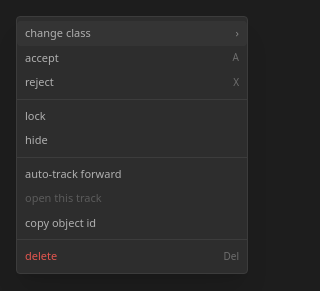
what it acts on › Escape from the class list goes back to the menu rather than closing it
Click the menu item "change class ›": (132, 33) [17,21,247,46]
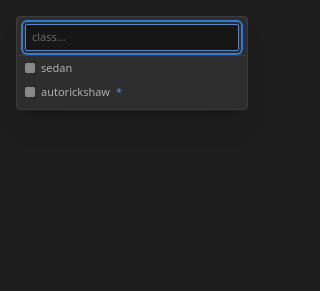
Press Escape
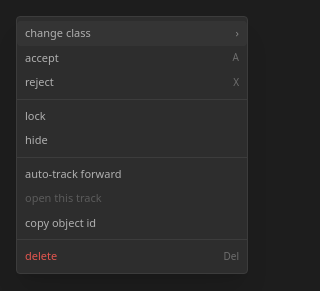
Expected: the menu item "change class ›" is shown, [17,21,247,46]
